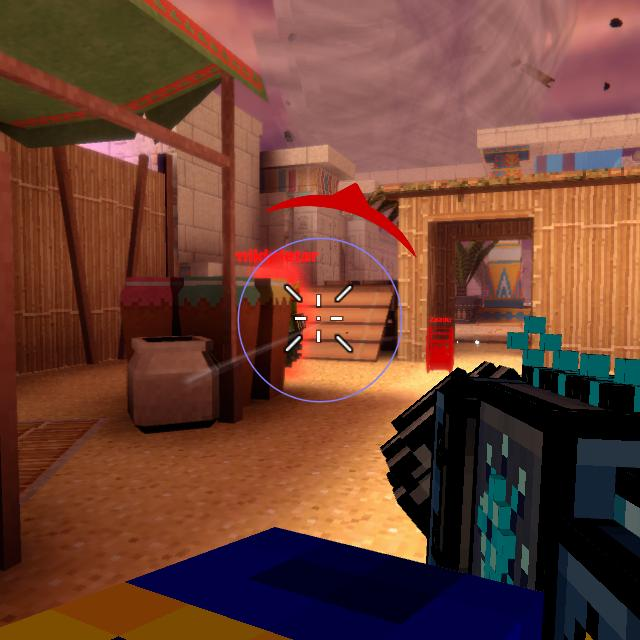Enemy: (285, 280, 306, 368)
